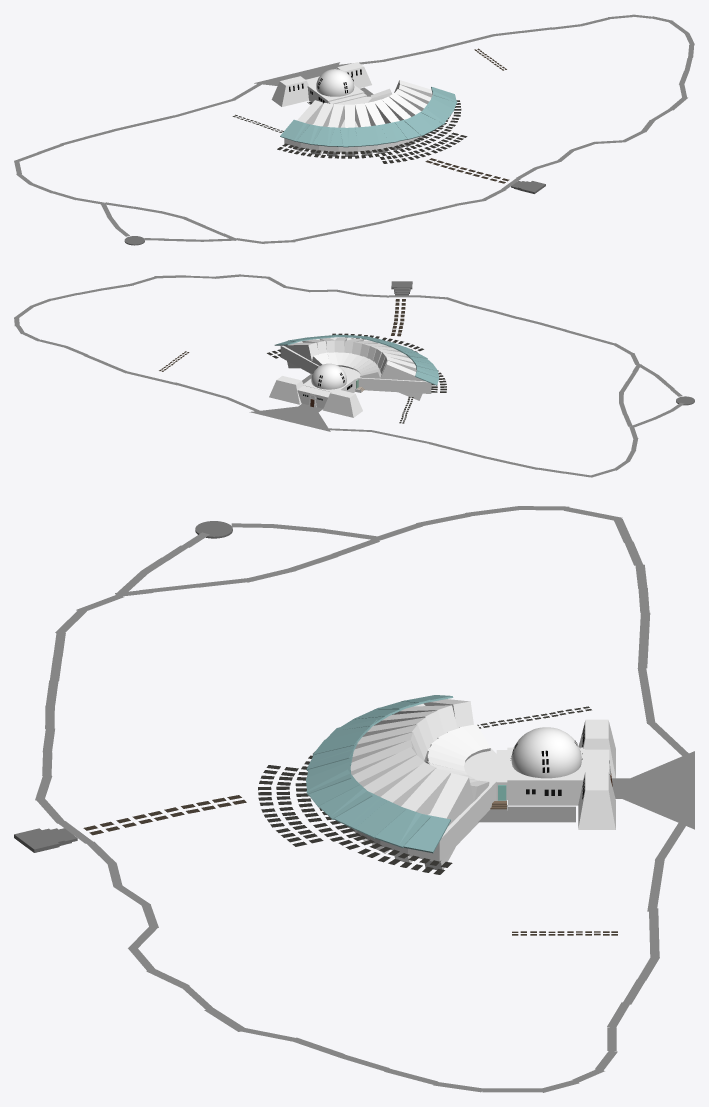
File: asmundarsafn_nyasta_utgafa_8.4_12.55.obj
3 views of the same model, one above another, from view 1: azimuth 30°, elevation 25°; view 2: azimuth 150°, elevation 25°; view 3: azimuth 270°, elevation 25° (orthographic). The views are drawn at different scales.
Parts seen in each view (by area): view 1: Plane.001, der_yfir_thaki, thak, gangstett_i_kringum_hring, syningarsalur, Sphere, h_hlid, v_hlid, innanhus; view 2: Plane.001, thak, syningarsalur, der_yfir_thaki, h_hlid, Sphere, v_hlid, adaldyr, gangstett_i_kringum_hring; view 3: Plane.001, thak, der_yfir_thaki, gangstett_i_kringum_hring, syningarsalur, Sphere, innanhus, v_hlid, h_hlid, gangstett_ad_vatnsbera.
Part boxes in pixels (<box>): Plane.001: <box>14,14,694,245</box>; der_yfir_thaki: <box>280,86,457,147</box>; thak: <box>293,80,432,156</box>; gangstett_i_kringum_hring: <box>277,100,467,163</box>; syningarsalur: <box>284,96,428,152</box>; Sphere: <box>316,69,354,96</box>; h_hlid: <box>271,76,308,106</box>; v_hlid: <box>336,62,371,88</box>; innanhus: <box>307,83,364,103</box>; Plane.001: <box>14,274,694,477</box>; thak: <box>284,337,424,400</box>; syningarsalur: <box>280,337,431,393</box>; der_yfir_thaki: <box>274,334,439,385</box>; h_hlid: <box>323,389,362,417</box>; Sphere: <box>311,363,346,389</box>; v_hlid: <box>269,376,303,404</box>; adaldyr: <box>297,385,330,408</box>; gangstett_i_kringum_hring: <box>267,333,446,392</box>; Plane.001: <box>14,506,694,1092</box>; thak: <box>350,699,490,869</box>; der_yfir_thaki: <box>306,695,453,853</box>; gangstett_i_kringum_hring: <box>258,752,452,874</box>; syningarsalur: <box>349,703,496,862</box>; Sphere: <box>511,727,581,778</box>; innanhus: <box>507,747,584,805</box>; v_hlid: <box>578,771,615,829</box>; h_hlid: <box>578,719,615,778</box>; gangstett_ad_vatnsbera: <box>83,795,246,835</box>.
Size of the model in its own units: 148 by 8.94 by 72.34.
